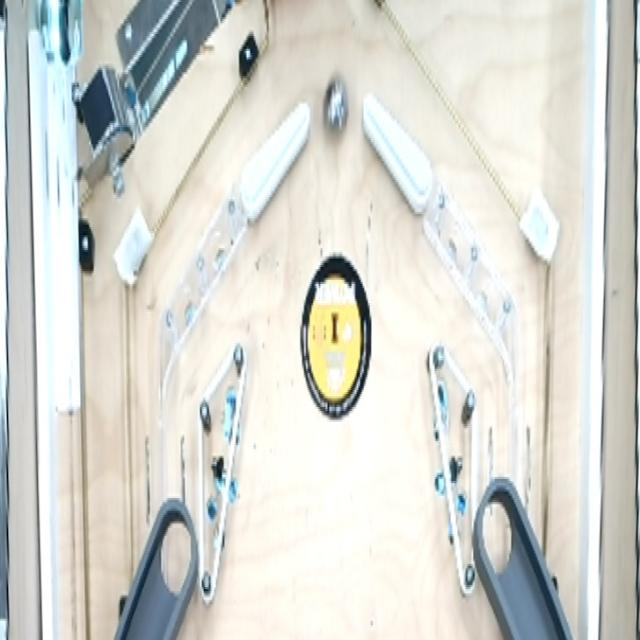ball: (319, 69, 352, 145)
flipper-left: (360, 88, 440, 224)
flipper-right: (237, 90, 314, 226)
